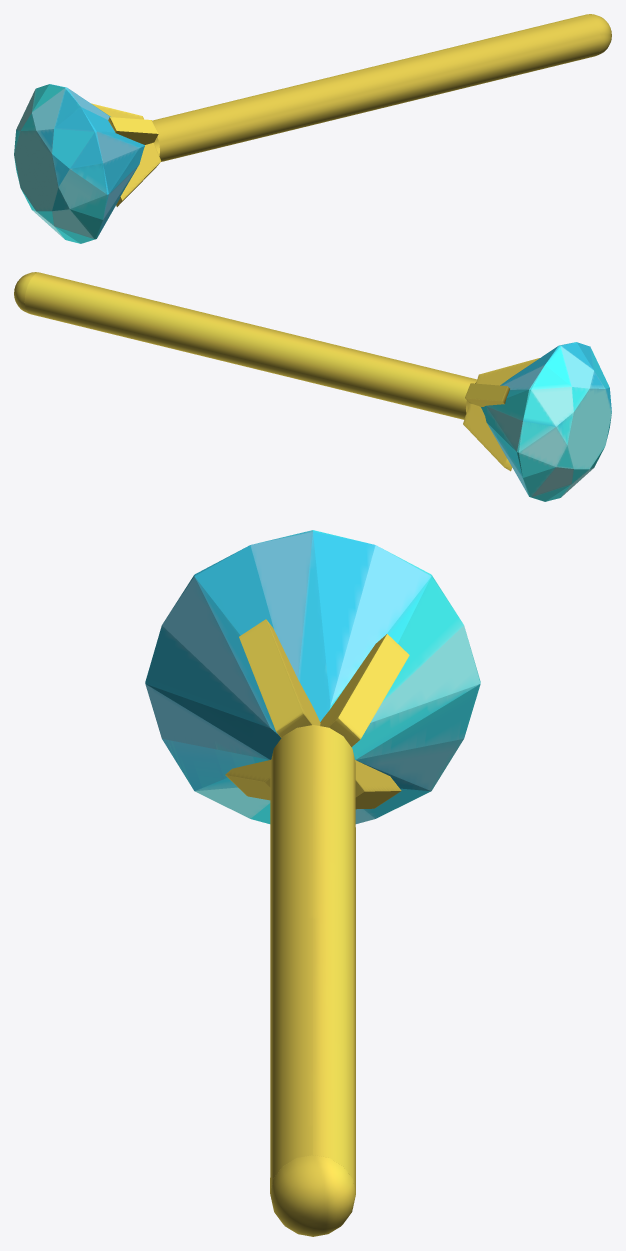
File: 57_Pin_Diamond.fbx
The picture shows the model from 3 angles, top to bottom: view 1: azimuth 30°, elevation 25°; view 2: azimuth 150°, elevation 25°; view 3: azimuth 270°, elevation 25°; orthographic projection. The views are drawn at different scales.
Parts seen in each view (by area): view 1: Pin_Diamond_body, Pin_Diamond_head, Pin_Diamond_tail; view 2: Pin_Diamond_body, Pin_Diamond_head, Pin_Diamond_tail; view 3: Pin_Diamond_head, Pin_Diamond_body, Pin_Diamond_tail.
Boxes of the visible parts, x1,y1,x2,y2 form: Pin_Diamond_body: (152,14,601,161); Pin_Diamond_head: (14,84,161,243); Pin_Diamond_tail: (587,14,611,55); Pin_Diamond_body: (24,272,477,419); Pin_Diamond_head: (463,342,611,501); Pin_Diamond_tail: (14,272,38,313); Pin_Diamond_head: (145,530,480,823); Pin_Diamond_body: (270,725,355,1193); Pin_Diamond_tail: (270,1155,355,1236).
Bounding box in the file's own units: 3.9 × 0.9877 × 0.9877.
